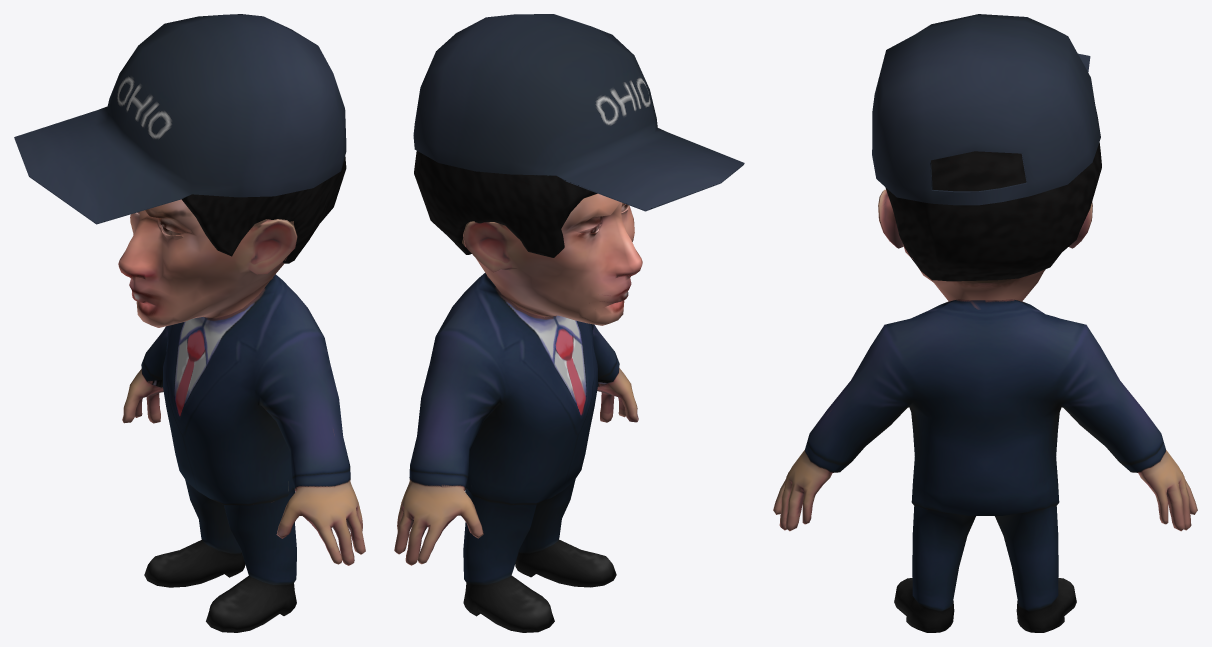
File: ohio_miniboss.fbx
3 views of the same model, side by side, from view 1: azimuth 30°, elevation 25°; view 2: azimuth 150°, elevation 25°; view 3: azimuth 270°, elevation 25° (orthographic). The views are drawn at different scales.
Parts seen in each view (by area): view 1: RigModels_ohio_mini_boss, boss_cap; view 2: RigModels_ohio_mini_boss, boss_cap; view 3: RigModels_ohio_mini_boss, boss_cap.
Boxes of the visible parts, x1,y1,x2,y2 form: RigModels_ohio_mini_boss: [118, 156, 365, 632]; boss_cap: [14, 14, 346, 224]; RigModels_ohio_mini_boss: [394, 151, 642, 632]; boss_cap: [413, 14, 744, 211]; RigModels_ohio_mini_boss: [773, 142, 1197, 632]; boss_cap: [872, 14, 1100, 205].
Bounding box in the file's own units: 155 × 279 × 183.
Materials: 1 (1 with a texture image).
